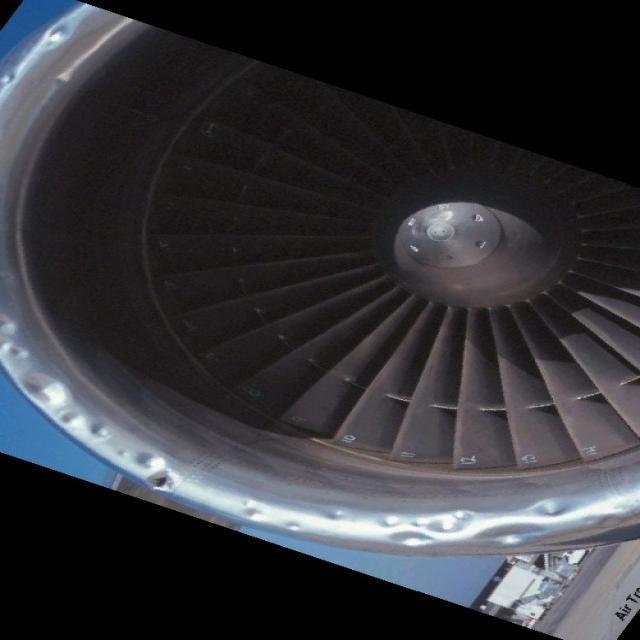dent: (332, 501, 598, 553)
